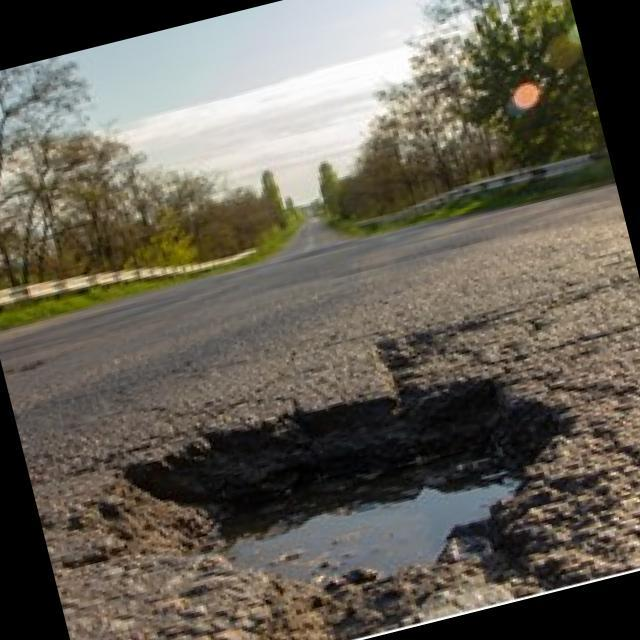Pothole: (73, 342, 612, 640)
